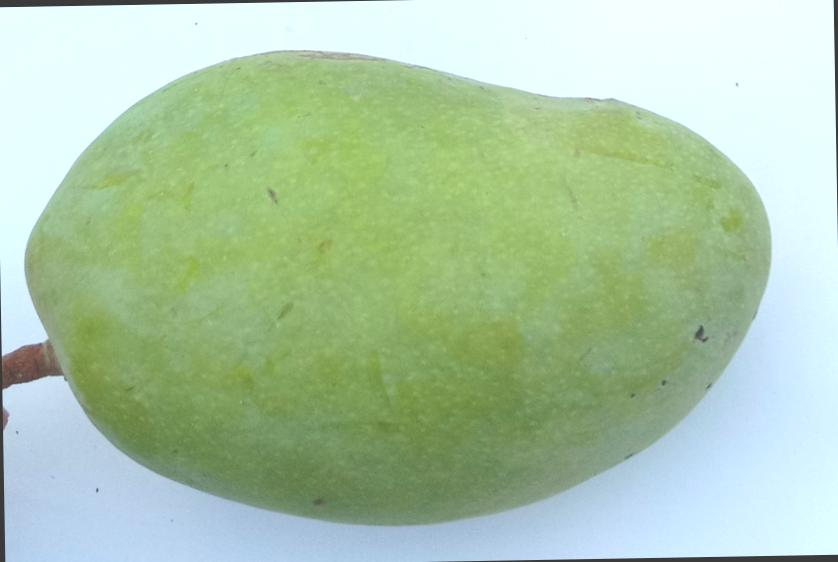Mango Unripe: (11, 25, 794, 547)
